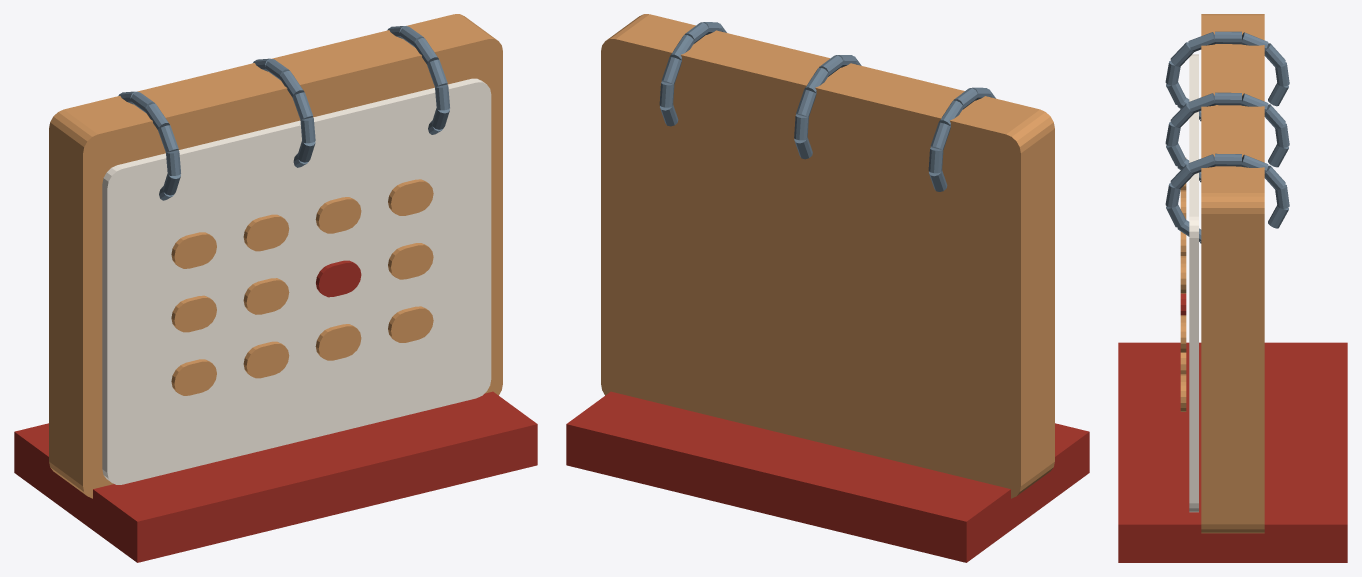
File: deskcalendar.glb
The picture shows the model from 3 angles, left to right: view 1: azimuth 30°, elevation 25°; view 2: azimuth 150°, elevation 25°; view 3: azimuth 270°, elevation 25°; orthographic projection. The views are drawn at different scales.
Parts seen in each view (by area): view 1: calendar page, binding board, rear foot, day 1, day 9, day 4, marked date, day 3, day 5, day 11, day 0, day 7 (+3 smaller); view 2: binding board, rear foot; view 3: rear foot, binding board, calendar page, loop16, loop06, loop26, loop15, loop25, loop05, loop04, loop14, loop24 (+3 smaller).
Part boxes in pixels (x1,y1,x2,y2): calendar page: (102,78,491,484); binding board: (49,14,502,498); rear foot: (14,391,537,562); day 1: (243,214,289,251); day 9: (243,341,289,378); day 4: (171,295,216,332); marked date: (316,260,361,297); day 3: (388,179,433,215); day 5: (243,278,289,314); day 11: (388,306,433,342); day 0: (171,232,216,268); day 7: (388,243,433,279); binding board: (601,14,1054,498); rear foot: (566,391,1089,562); rear foot: (1118,342,1347,562); binding board: (1201,14,1264,533); calendar page: (1189,54,1198,512); loop16: (1215,92,1241,105); loop06: (1215,31,1241,44); loop26: (1215,153,1241,166); loop15: (1188,93,1215,113); loop25: (1188,154,1215,174); loop05: (1188,32,1215,52); loop04: (1170,42,1193,66); loop14: (1170,103,1193,127); loop24: (1170,164,1193,188).
Size of the model in its own units: 1.28 by 1.18 by 0.65.
